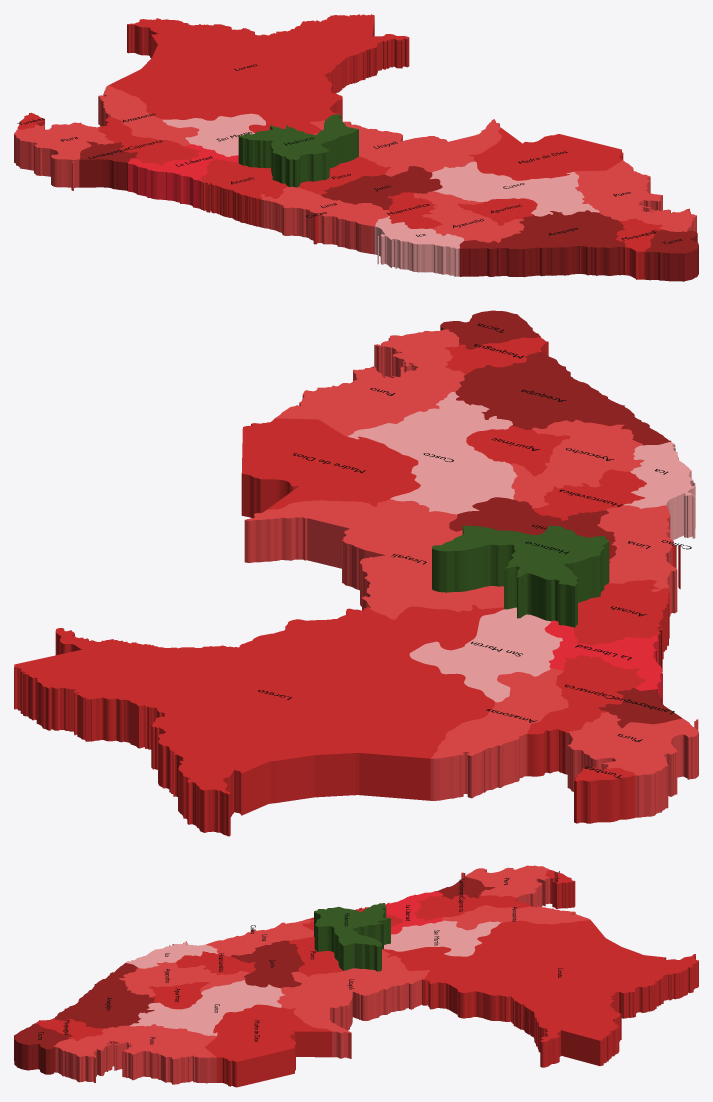
File: archivo.glb
3 views of the same model, one above another, from view 1: azimuth 30°, elevation 25°; view 2: azimuth 150°, elevation 25°; view 3: azimuth 270°, elevation 25° (orthographic). The views are drawn at different scales.
Parts seen in each view (by area): view 1: map.002; view 2: map.002; view 3: map.002.
Part boxes in pixels (left/top/right/bottom): map.002: left=14, top=14, right=698, bottom=281; map.002: left=14, top=310, right=698, bottom=836; map.002: left=14, top=865, right=698, bottom=1087.
Size of the model in its own units: 1.33 by 0.1612 by 1.96.
